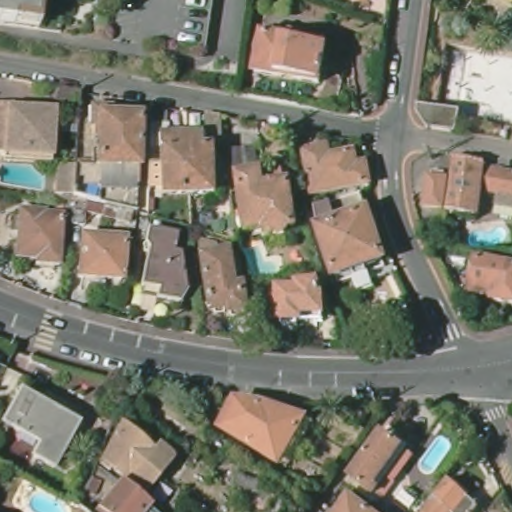pool: (1, 159, 52, 193), (241, 241, 284, 280), (418, 436, 452, 475), (469, 223, 511, 252), (27, 484, 71, 510)
